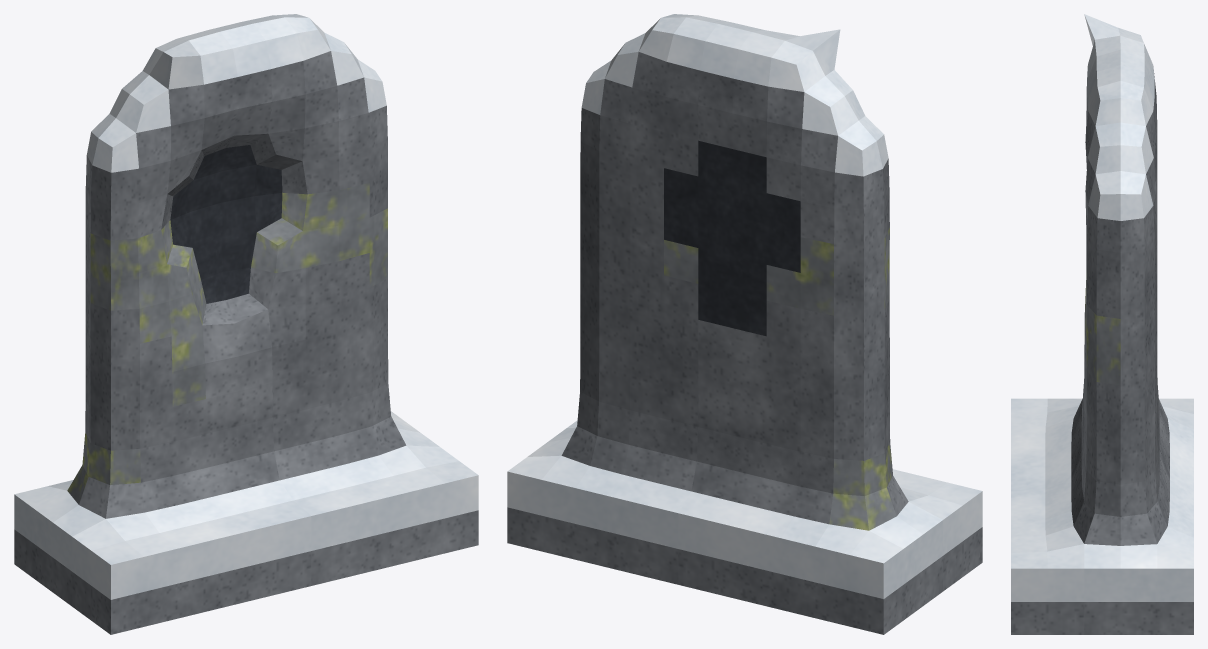
Rendered from landmark_grave_stone_snow.glb.
3 renders of one model, left to right at view 1: azimuth 30°, elevation 25°; view 2: azimuth 150°, elevation 25°; view 3: azimuth 270°, elevation 25°, orthographic. The views are drawn at different scales.
Visible parts, largest first — view 1: wilds_landmark_grave_stone_snow; view 2: wilds_landmark_grave_stone_snow; view 3: wilds_landmark_grave_stone_snow.
Boxes of the visible parts, x1,y1,x2,y2 form: wilds_landmark_grave_stone_snow: [14, 14, 478, 634]; wilds_landmark_grave_stone_snow: [507, 14, 982, 634]; wilds_landmark_grave_stone_snow: [1011, 14, 1193, 634].
Bounding box in the file's own units: 0.6875 × 0.9375 × 0.3125.
Materials: 1 (1 with a texture image).
